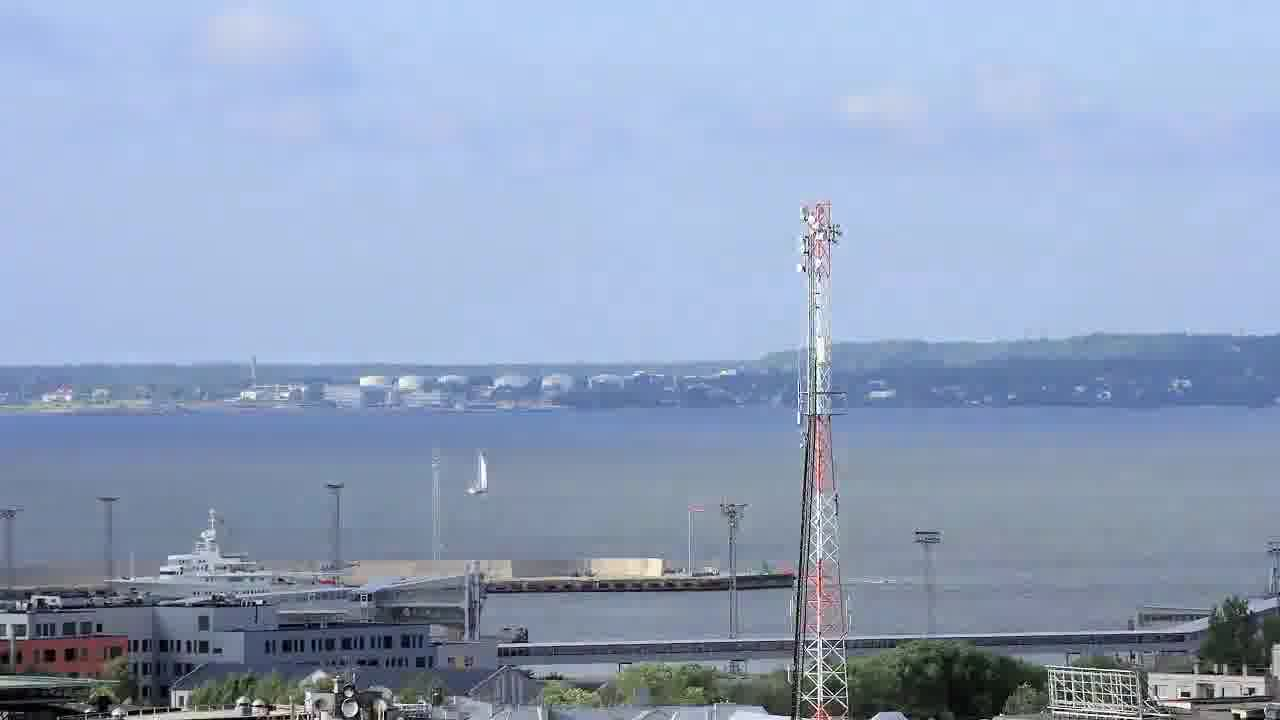type-2: (449, 444, 510, 512)
type-3: (84, 515, 355, 603)
